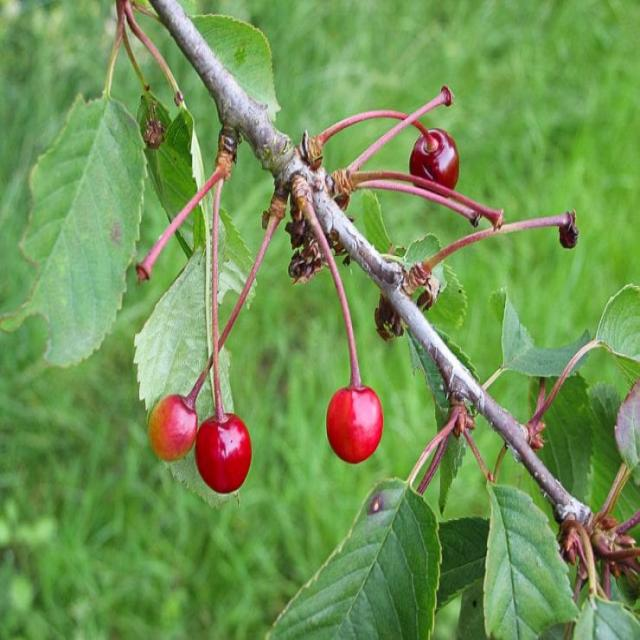cherry: (286, 172, 388, 463), (202, 158, 254, 492), (301, 107, 464, 185)
